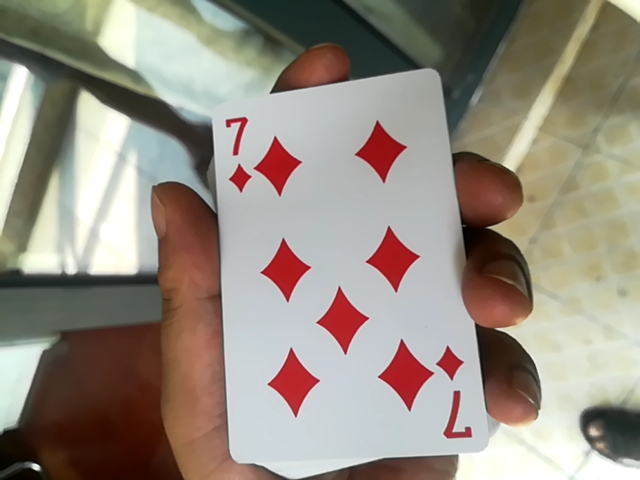fk 7: (194, 64, 464, 462)
